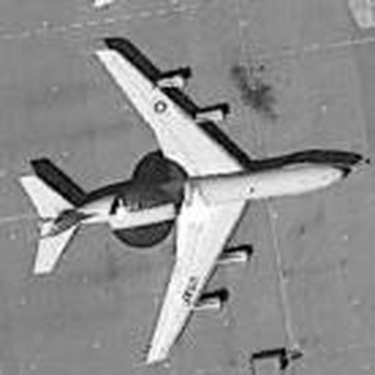airplane: (10, 20, 355, 368)
